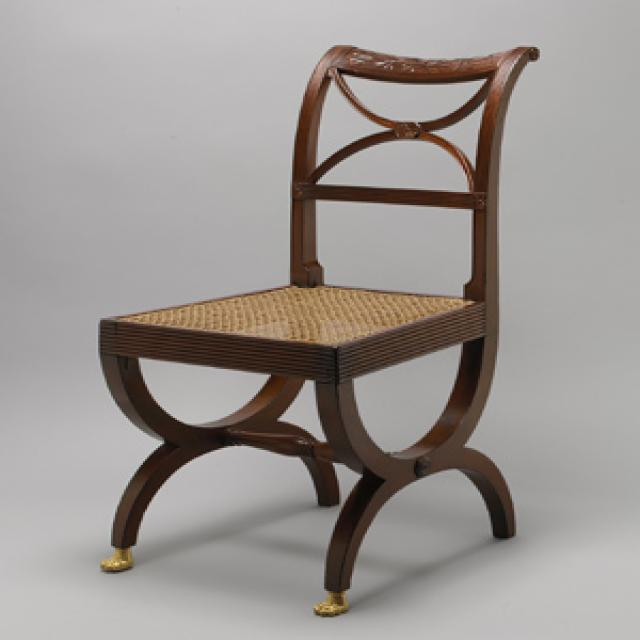chair: (100, 42, 543, 619)
